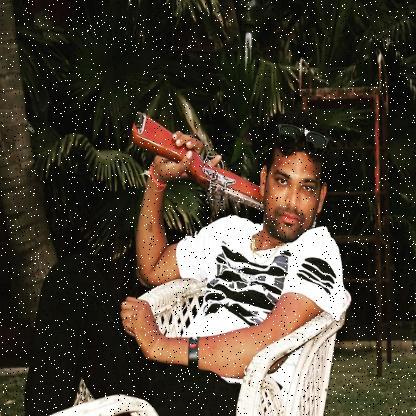rifle: (128, 108, 266, 214)
